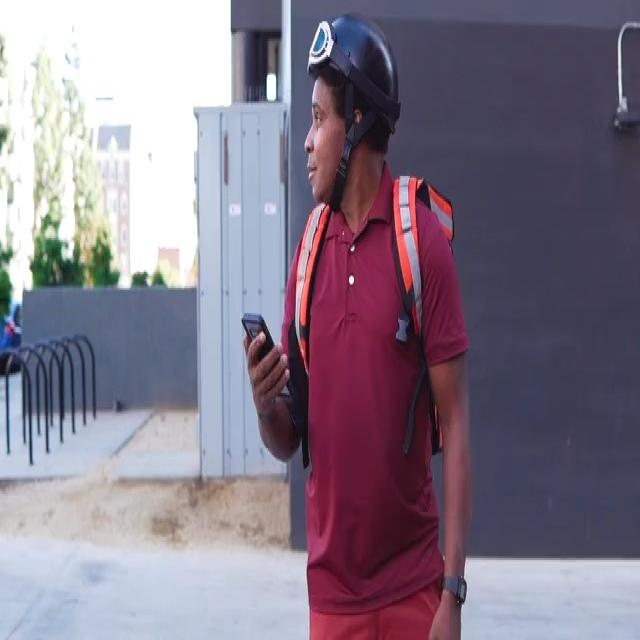Helmet_Wearer: (302, 15, 406, 228)
Person: (251, 18, 472, 639)
